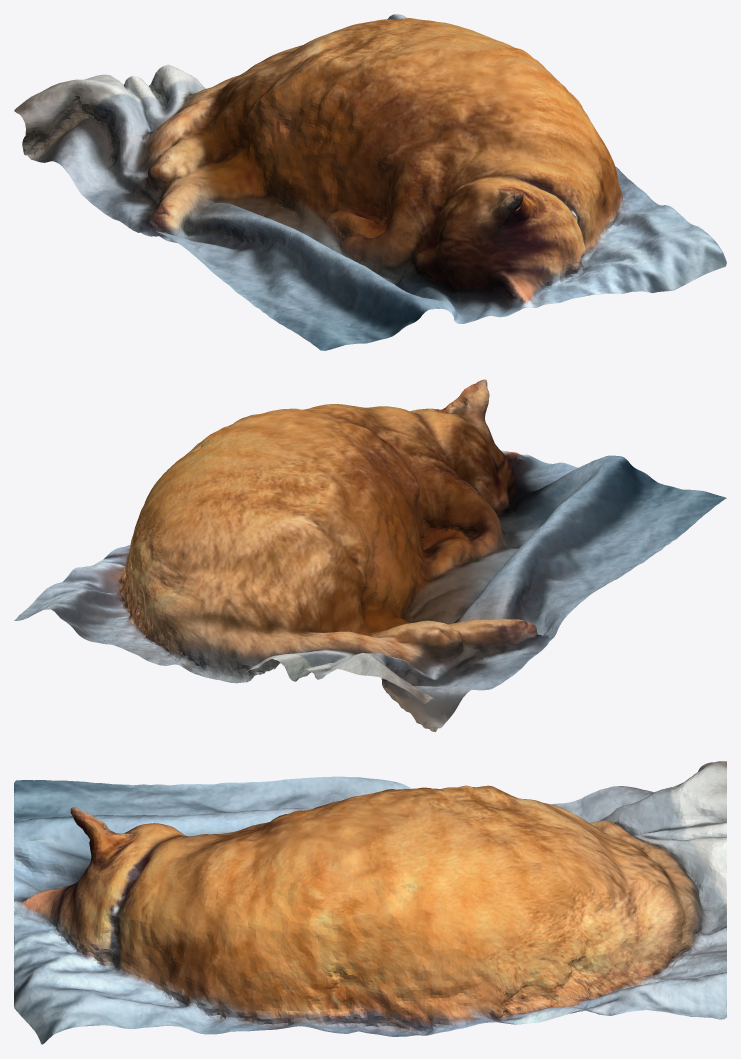
Rendered from sleeping_cat.glb.
3 renders of one model, top to bottom at view 1: azimuth 30°, elevation 25°; view 2: azimuth 150°, elevation 25°; view 3: azimuth 270°, elevation 25°, orthographic. The views are drawn at different scales.
Bounding box in the file's own units: 0.4462 × 0.1361 × 0.5691.
Materials: 1 (1 with a texture image).
